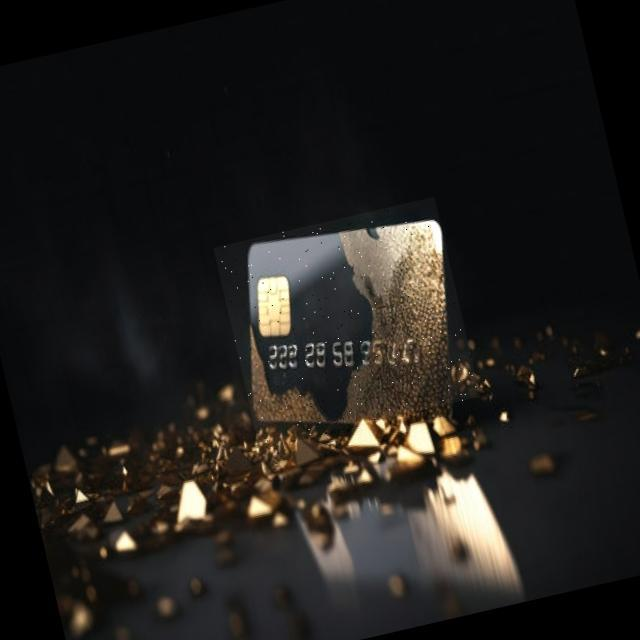payment_card: (213, 197, 458, 429)
